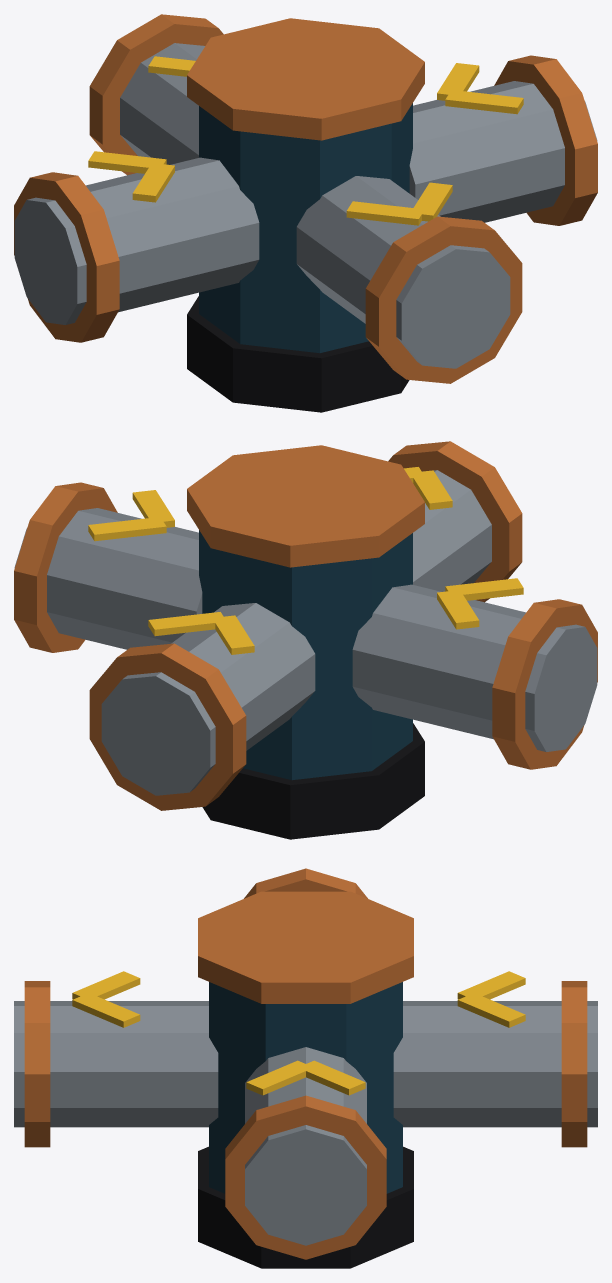
Rendered from pipe_triple.obj.
The picture shows the model from 3 angles, top to bottom: view 1: azimuth 30°, elevation 25°; view 2: azimuth 150°, elevation 25°; view 3: azimuth 270°, elevation 25°; orthographic projection. The views are drawn at different scales.
Visible parts, largest first — view 1: Pipe, Arrows; view 2: Pipe, Arrows; view 3: Pipe, Arrows.
Part boxes in pixels (left/top/right/bottom): Pipe: left=14, top=14, right=597, bottom=412; Arrows: left=88, top=56, right=523, bottom=225; Pipe: left=14, top=441, right=597, bottom=839; Arrows: left=88, top=467, right=523, bottom=654; Pipe: left=14, top=868, right=597, bottom=1268; Arrows: left=72, top=971, right=525, bottom=1095.
Size of the model in its own units: 1 by 0.54 by 1.
